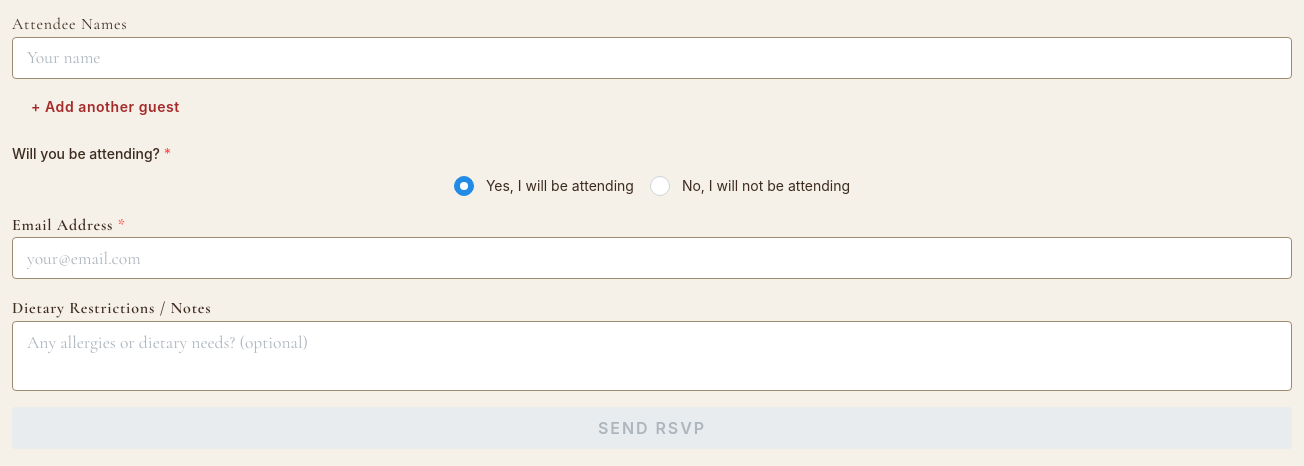
Test case: RsvpForm › form submission › shows a "miss you" message when not attending and submission succeeds
Type "Jon Bernard" into the field with placeholder "Your name" at (652, 58), box top-left (12, 37), bottom-right (1292, 79)
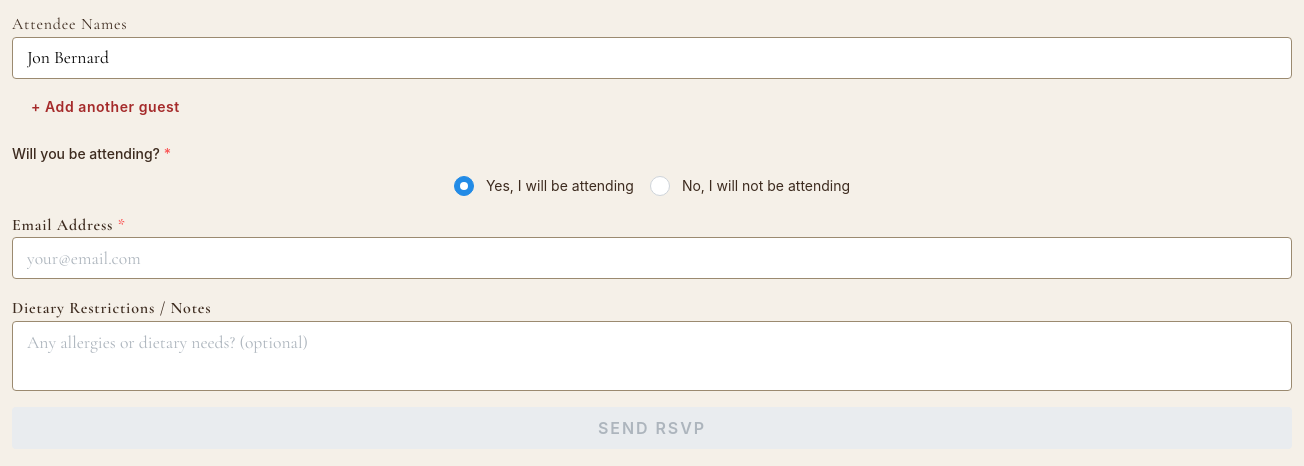
Click the radio button labelled "No, I will not be attending" at (660, 186), box top-left (650, 176), bottom-right (670, 196)
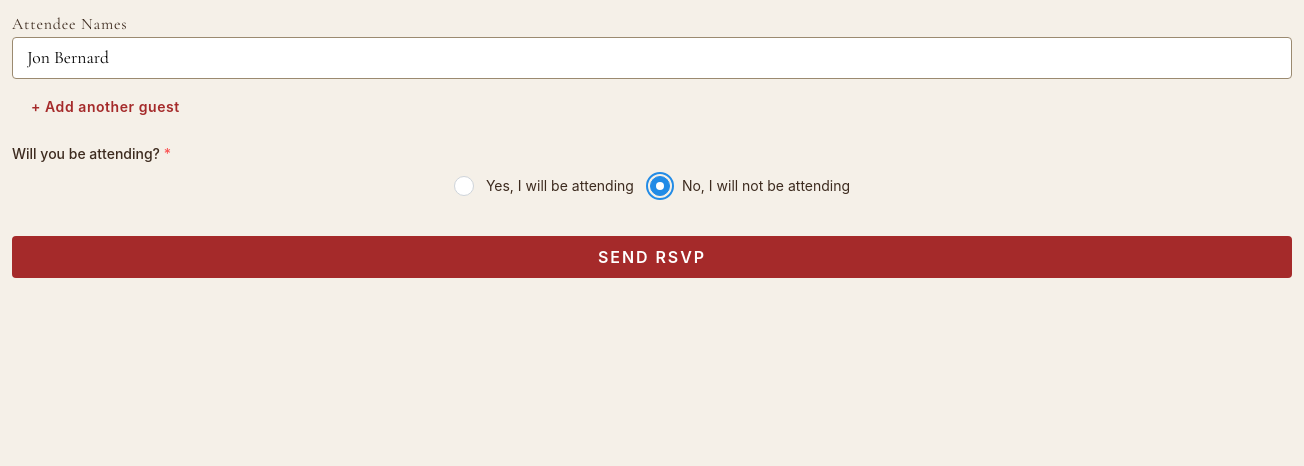
Click the button "SEND RSVP" at (652, 257), box top-left (12, 236), bottom-right (1292, 278)
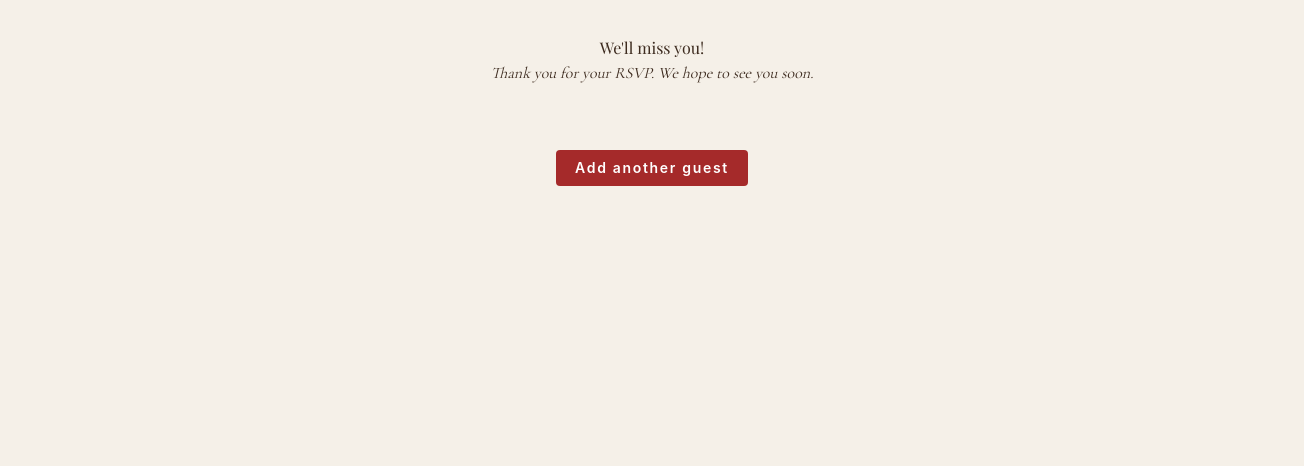
Result: the text "We'll miss you!" is shown at top-left (600, 37), bottom-right (704, 58)
